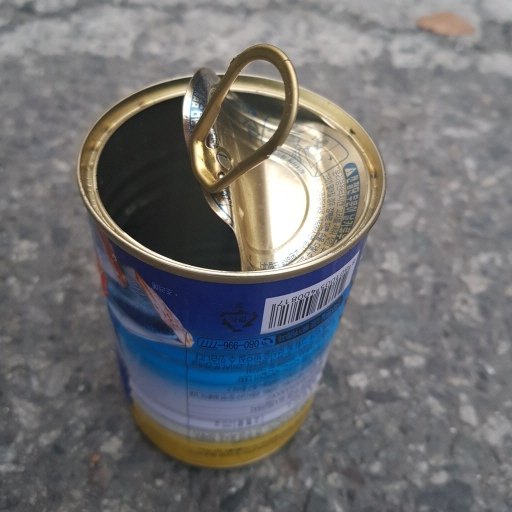Metal_1: (70, 41, 387, 473)
